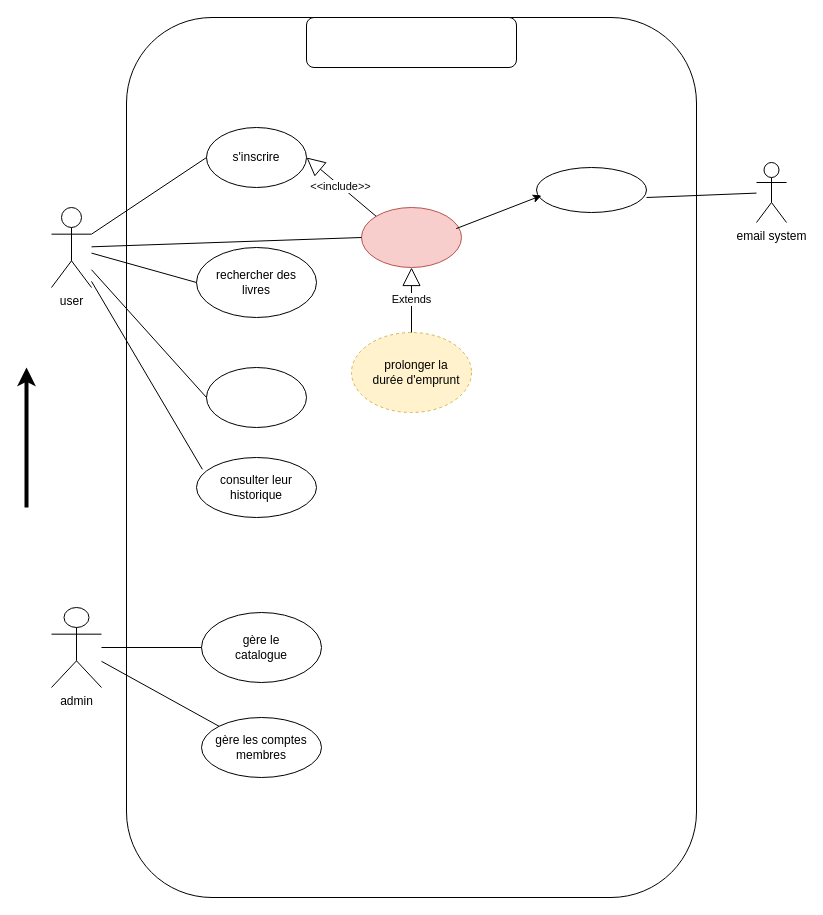
Image size: 823x915. Some labels were removed from this diagram. Each missing label, with the centre of its shape:
"BIBLO" goes at point (411, 42).
"emprunter" goes at point (411, 237).
"envoyée un notification" goes at point (591, 189).
"rendre des livres" goes at point (256, 397).
